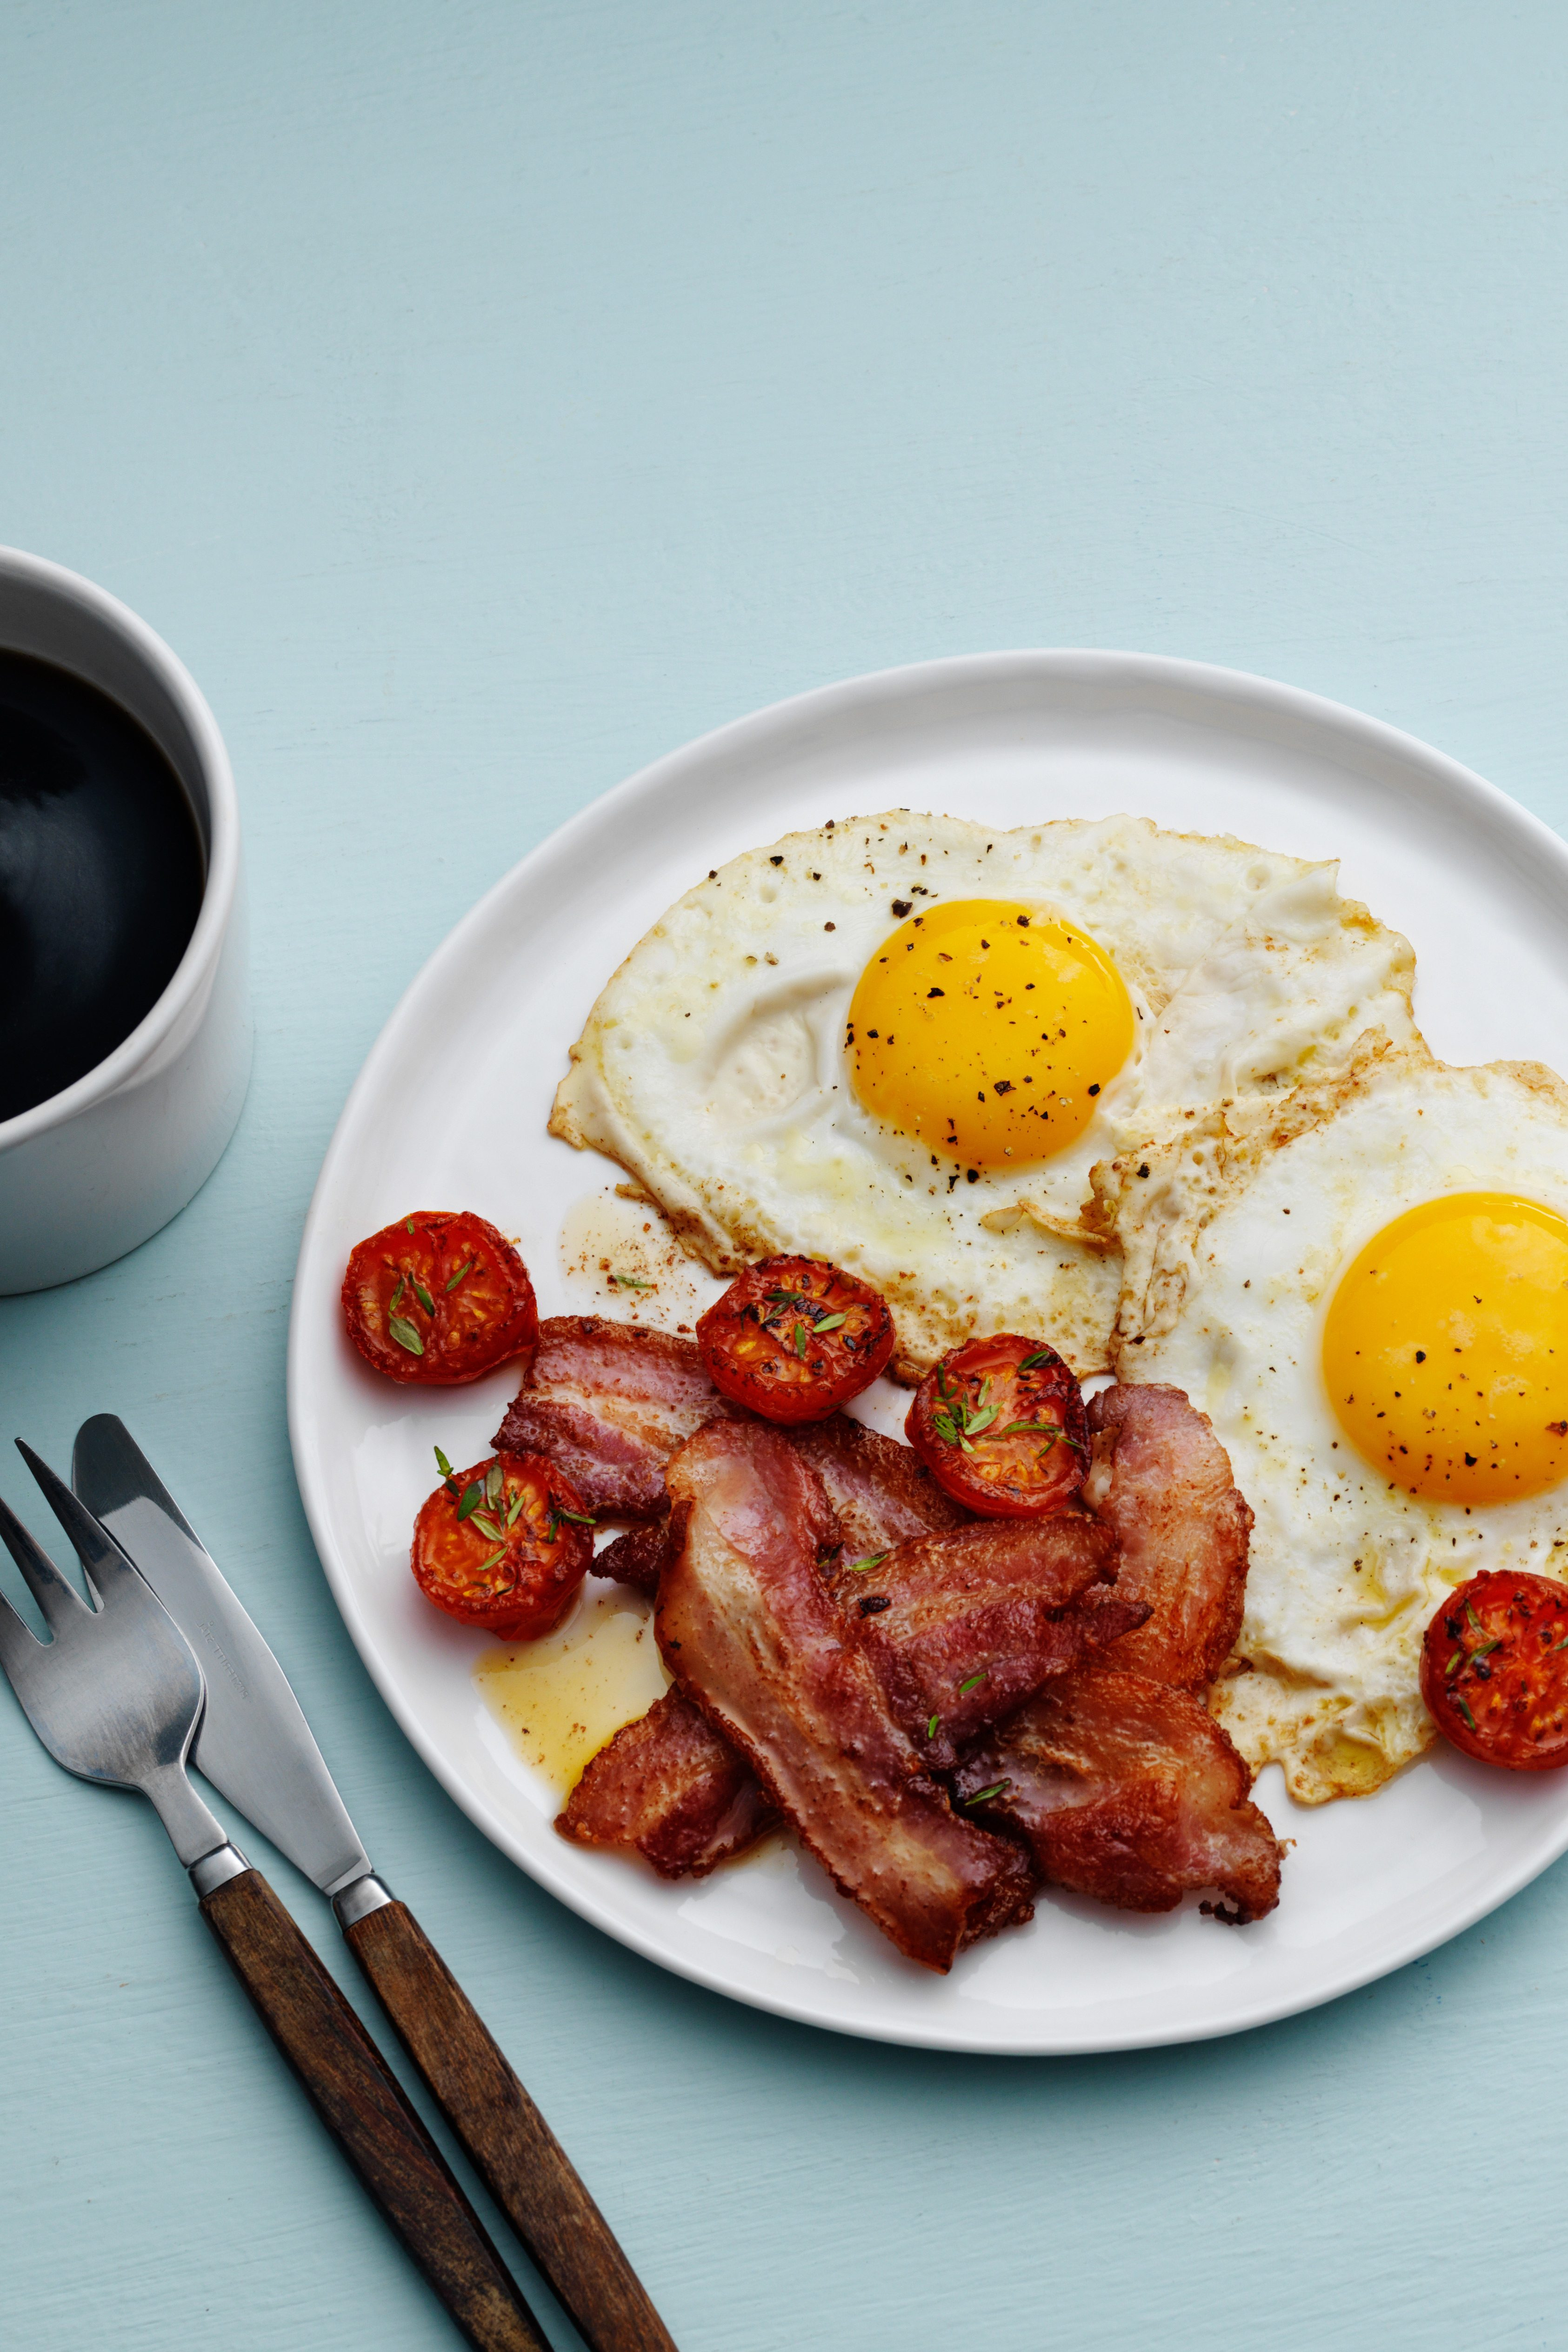fried egg: (730, 866, 1519, 1409)
